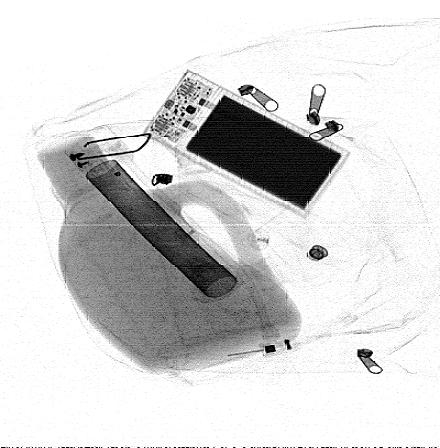Powerbank: (142, 69, 351, 218)
